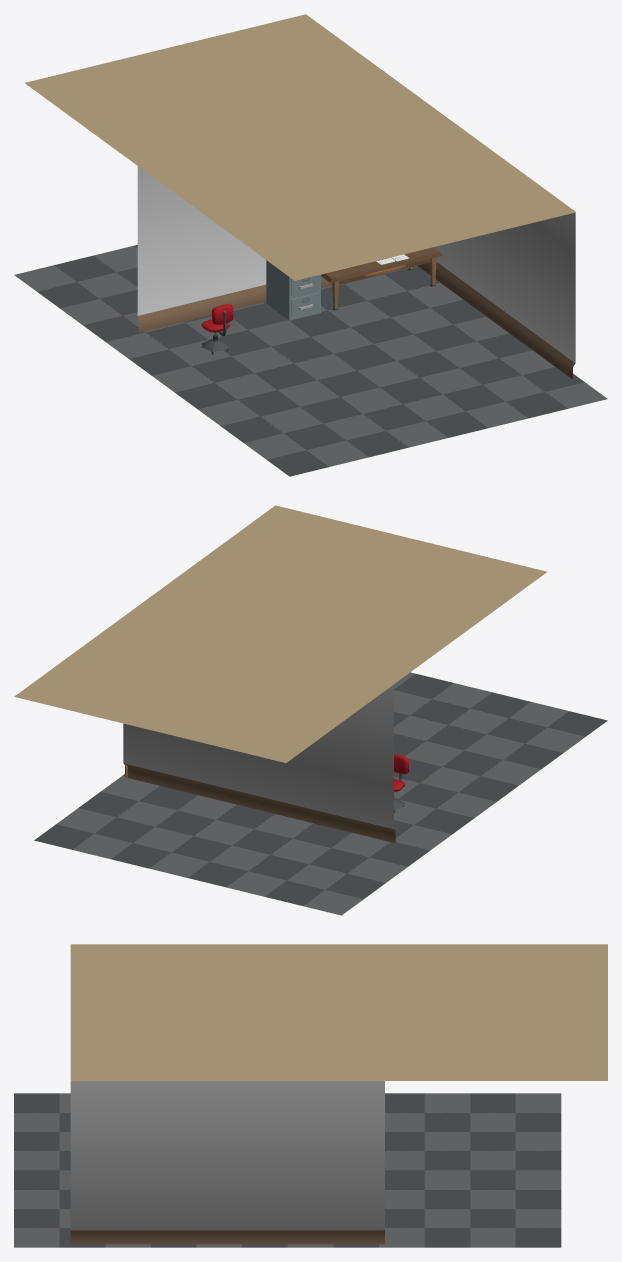
Rendered from office.glb.
3 renders of one model, top to bottom at view 1: azimuth 30°, elevation 25°; view 2: azimuth 150°, elevation 25°; view 3: azimuth 270°, elevation 25°, orthographic. The views are drawn at different scales.
Parts seen in each view (by area): view 1: CeilingPlane, Wall.001, Wall, GroundPlane.005, GroundPlane.020, GroundPlane.004, GroundPlane.017, GroundPlane.019, GroundPlane.021, GroundPlane.022, GroundPlane.002, GroundPlane.011 (+13 smaller); view 2: CeilingPlane, Wall, GroundPlane.011, GroundPlane.010, GroundPlane.014, GroundPlane.023, GroundPlane.015, GroundPlane.020, GroundPlane.021, GroundPlane.005, GroundPlane.009, GroundPlane.012 (+6 smaller); view 3: CeilingPlane, Wall.001, GroundPlane.011, GroundPlane.014, GroundPlane.015, GroundPlane.010, GroundPlane.012, GroundPlane.009, GroundPlane.013, GroundPlane.008, GroundPlane.016, GroundPlane.017 (+2 smaller).
Boxes of the visible parts, <box> form: CeilingPlane: <box>25,14,575,280</box>; Wall.001: <box>417,212,575,379</box>; Wall: <box>137,166,331,332</box>; GroundPlane.005: <box>152,356,276,409</box>; GroundPlane.020: <box>323,404,448,457</box>; GroundPlane.004: <box>232,337,356,389</box>; GroundPlane.017: <box>403,385,527,437</box>; GroundPlane.019: <box>357,351,481,403</box>; GroundPlane.021: <box>244,424,368,476</box>; GroundPlane.022: <box>278,370,402,423</box>; GroundPlane.002: <box>311,317,435,370</box>; GroundPlane.011: <box>14,255,137,308</box>; CeilingPlane: <box>14,505,547,762</box>; Wall: <box>123,684,395,843</box>; GroundPlane.011: <box>265,864,385,915</box>; GroundPlane.010: <box>188,845,308,896</box>; GroundPlane.014: <box>34,808,154,859</box>; GroundPlane.023: <box>442,734,562,785</box>; GroundPlane.015: <box>111,827,231,877</box>; GroundPlane.020: <box>410,683,530,734</box>; GroundPlane.021: <box>487,702,607,752</box>; GroundPlane.005: <box>398,767,518,817</box>; GroundPlane.009: <box>309,833,429,882</box>; GroundPlane.012: <box>79,775,197,826</box>; CeilingPlane: <box>70,944,607,1080</box>; Wall.001: <box>70,1081,384,1244</box>; GroundPlane.011: <box>470,1093,561,1131</box>; GroundPlane.014: <box>470,1209,561,1247</box>; GroundPlane.015: <box>470,1170,561,1208</box>; GroundPlane.010: <box>470,1132,561,1170</box>; GroundPlane.012: <box>379,1209,470,1247</box>; GroundPlane.009: <box>385,1093,470,1131</box>; GroundPlane.013: <box>385,1170,470,1208</box>; GroundPlane.008: <box>385,1132,470,1170</box>; GroundPlane.016: <box>14,1209,105,1247</box>; GroundPlane.017: <box>14,1170,70,1208</box>.
Bounding box in the file's own units: 8 × 4 × 13.02.
29 materials, 27 textured.
